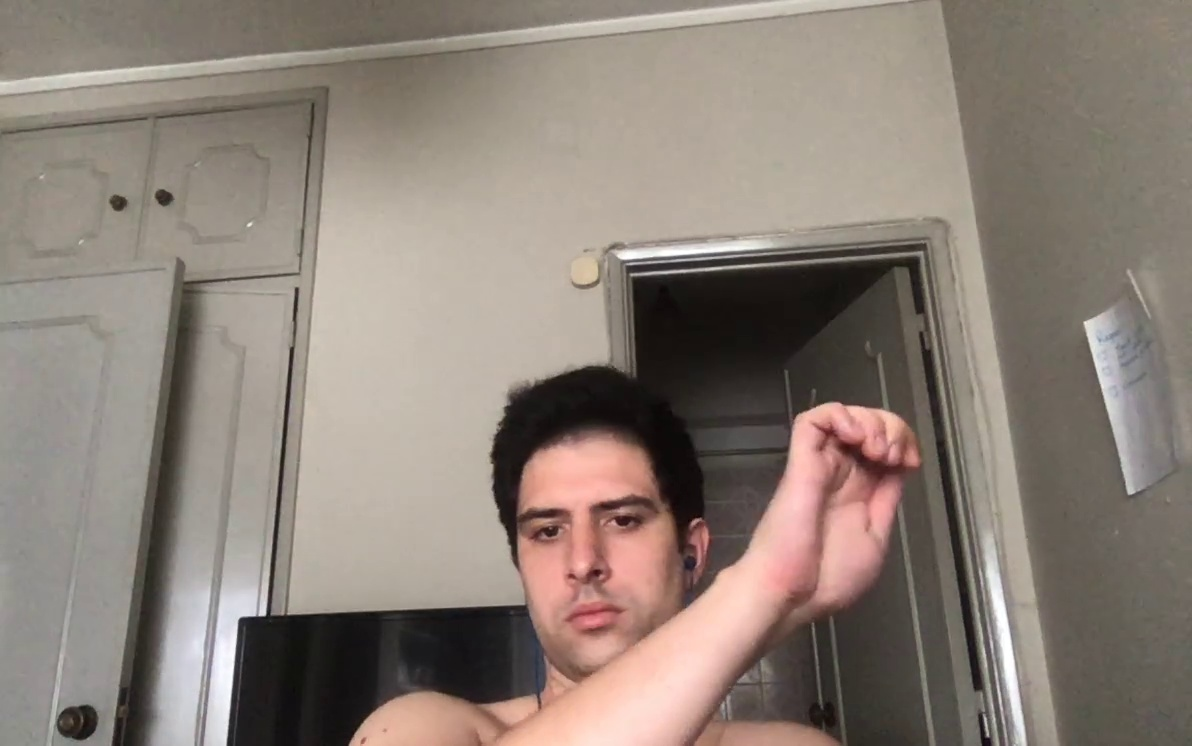c: (767, 395, 923, 615)
